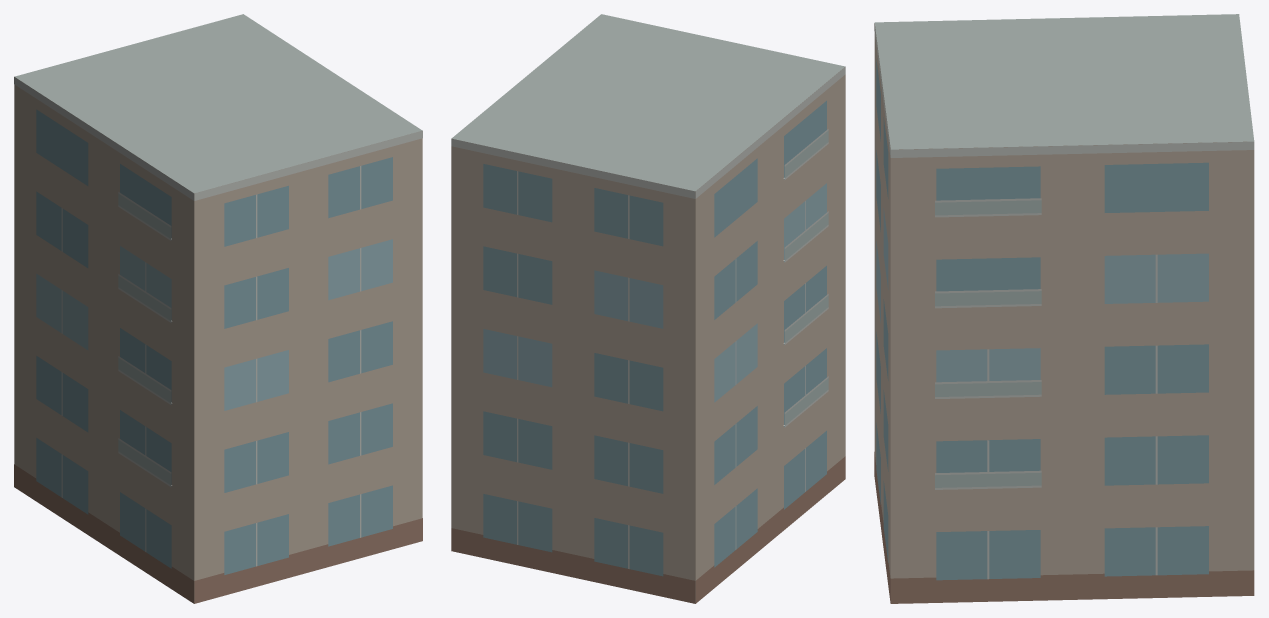
The model's file is survey-upis-32702521.glb.
The picture shows the model from 3 angles, left to right: view 1: azimuth 30°, elevation 25°; view 2: azimuth 150°, elevation 25°; view 3: azimuth 270°, elevation 25°; orthographic projection. The views are drawn at different scales.
Visible parts, largest first — view 1: survey-upis-32702521.tmp; view 2: survey-upis-32702521.tmp; view 3: survey-upis-32702521.tmp.
Part boxes in pixels (box(x1,y1,x2,y2)): survey-upis-32702521.tmp: box(14, 14, 422, 603); survey-upis-32702521.tmp: box(451, 14, 845, 603); survey-upis-32702521.tmp: box(874, 14, 1254, 603).
Bounding box in the file's own units: 8.4 × 13.1 × 9.94.
